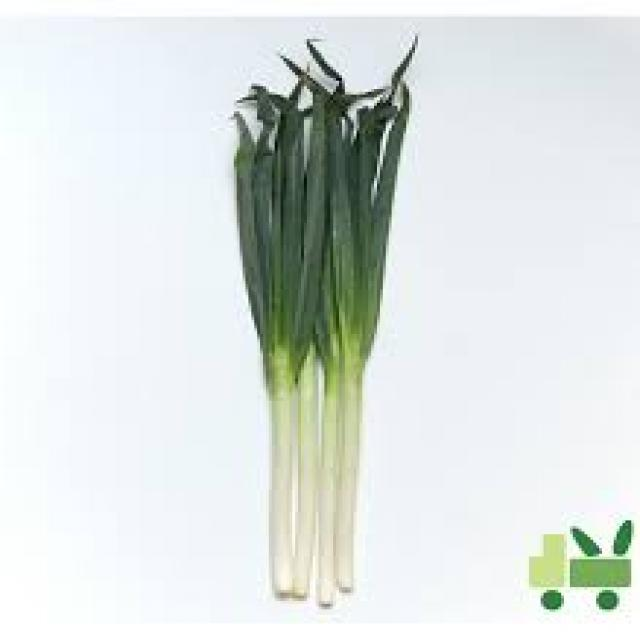spring_onion: (234, 25, 432, 609)
